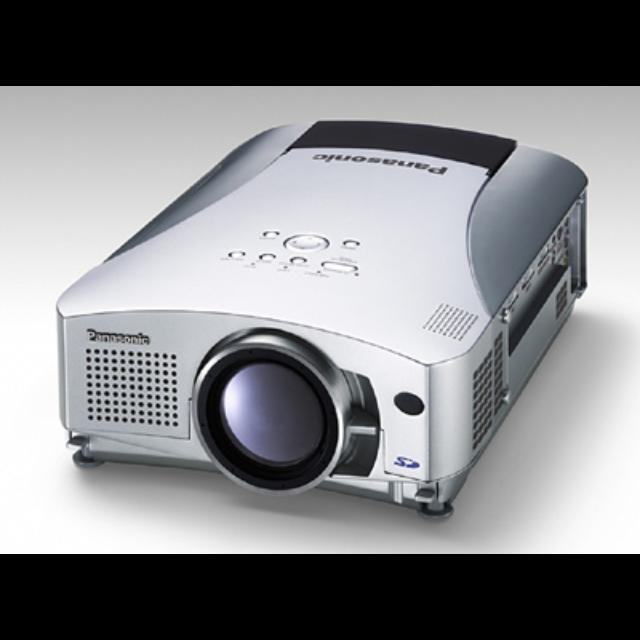Projector: (41, 110, 601, 512)
